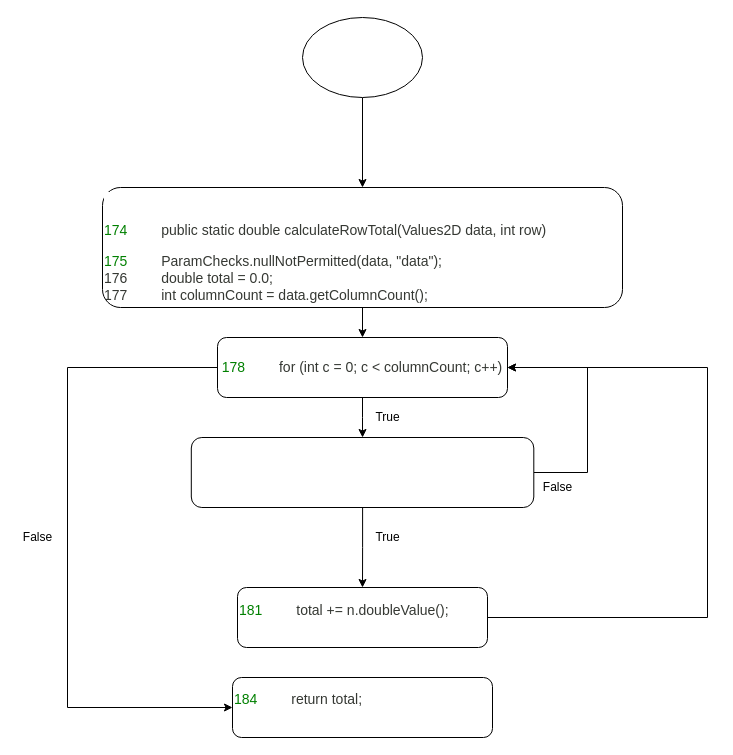
This 733x755 diagram has some shape labels left out. The centre of each missing label's shape, as x and y in pixels:
179 Number n = data.getValue(row, c); 180 if (n != null): point 362,472
Start: point 362,57
